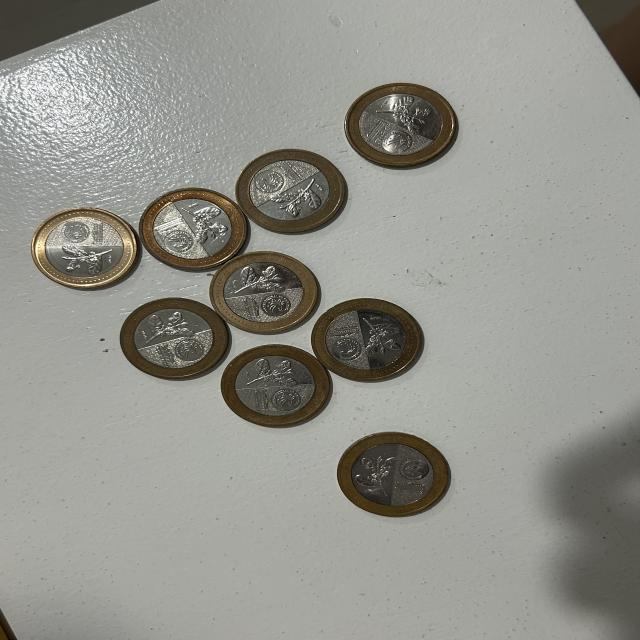20_New_Back: (228, 264, 292, 301), (244, 356, 308, 393), (270, 177, 324, 214), (49, 246, 120, 274), (143, 309, 196, 346), (376, 97, 432, 132), (180, 203, 230, 241), (354, 453, 397, 495), (361, 318, 404, 356)
